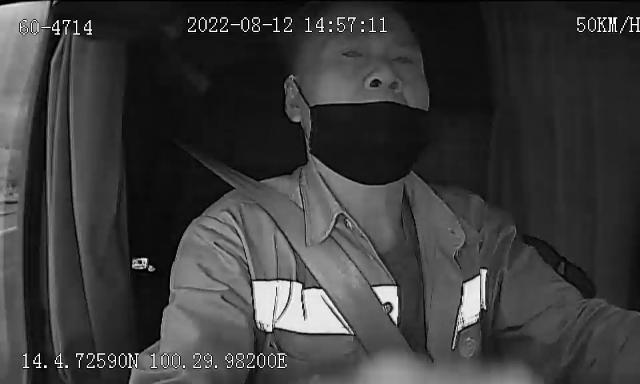Seatbelt: (188, 118, 446, 384)
